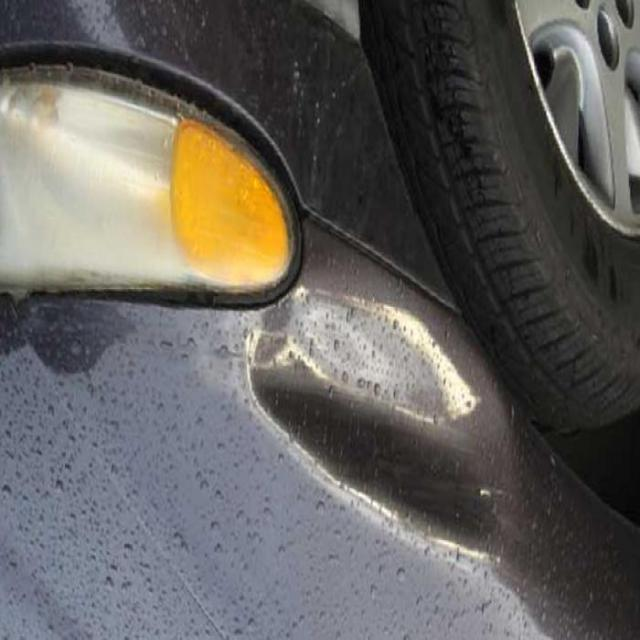dent: (237, 278, 542, 580)
